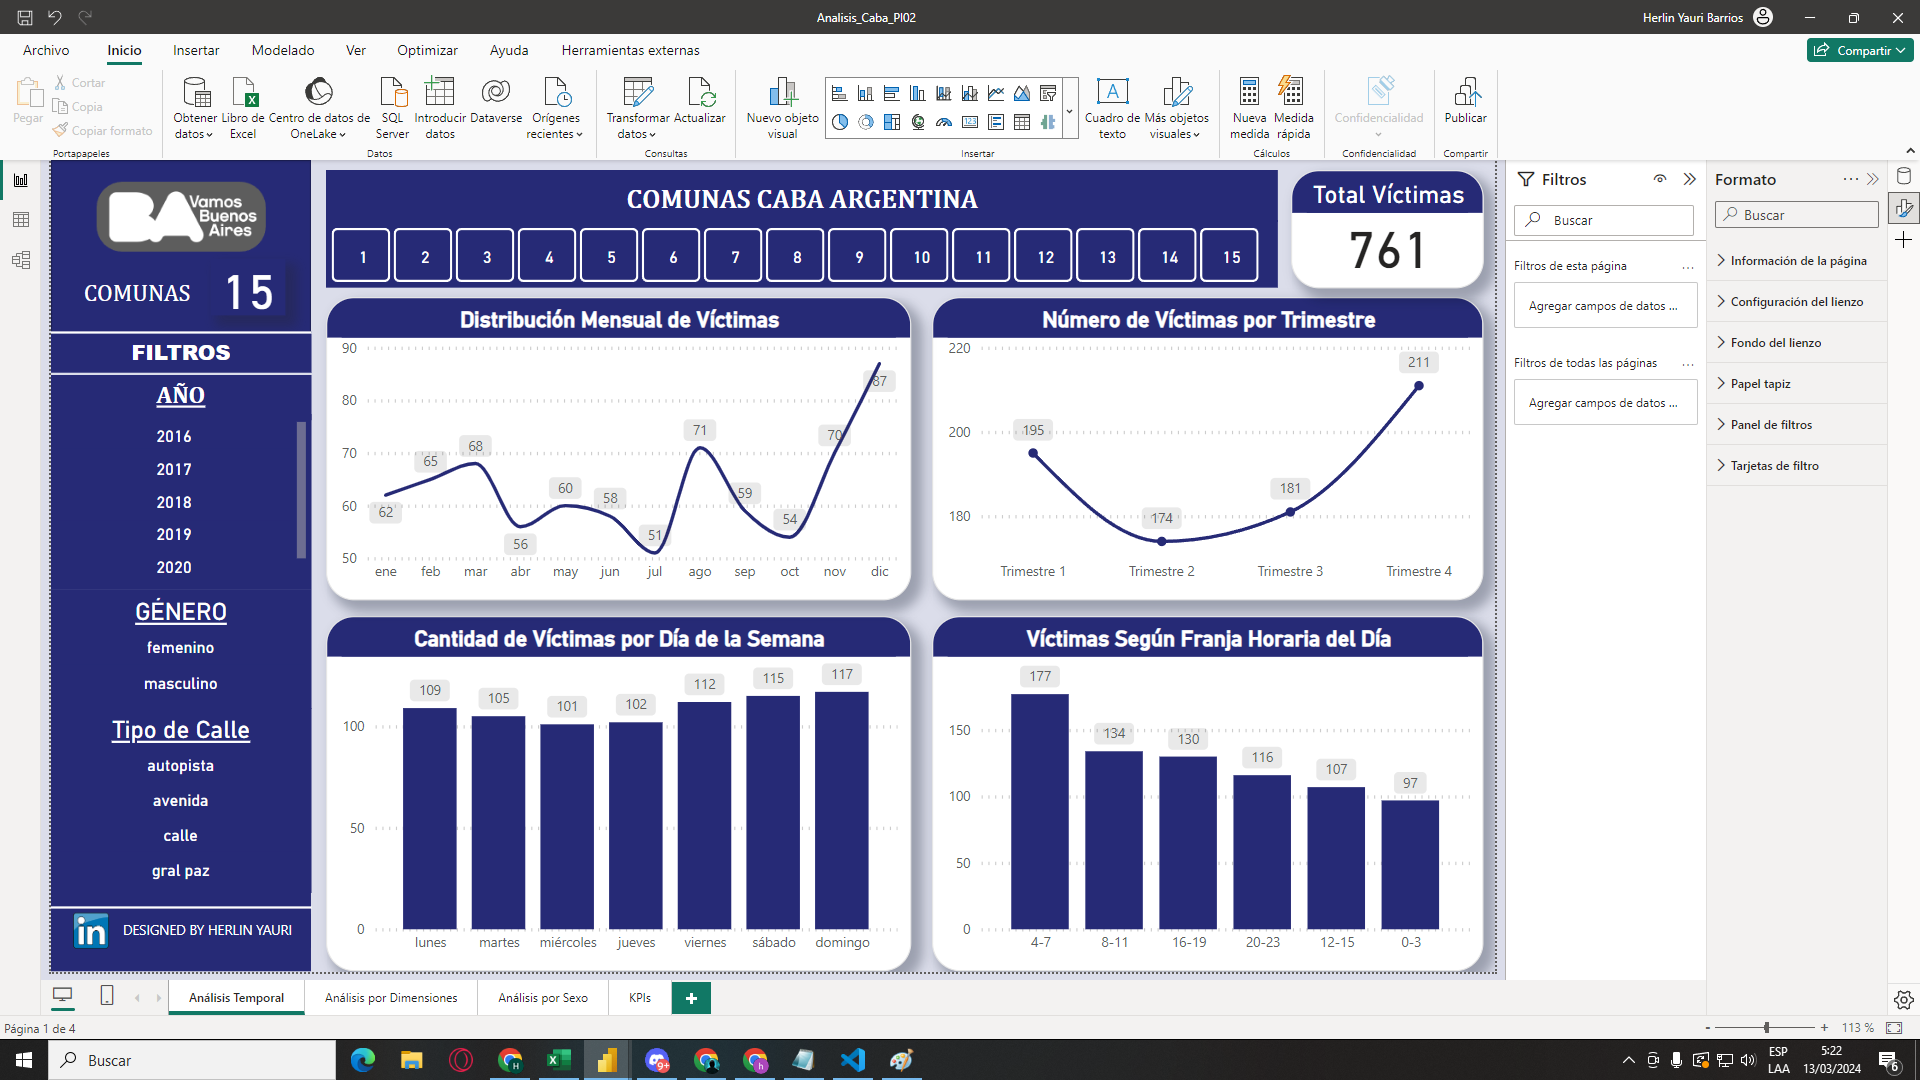

What the dashboard file says about the page in this screenshot:
{"tool":"powerbi","page":{"name":"Análisis Temporal","canvas":[1280,720],"ordinal":0},"visuals":[{"type":"advancedSlicerVisual","title":" _AÑO_","fields":{"Values":["DimTiempo.Año"]},"box":[0,225.2,231.4,156.1],"z":0},{"type":"advancedSlicerVisual","title":"GÉNERO","fields":{"Values":["FacDB.sexo_victima"]},"box":[0,381.3,230.5,104.6],"z":1000},{"type":"advancedSlicerVisual","title":"Tipo de Calle","fields":{"Values":["DimTipoCalle.tipo_calle"]},"box":[0,485.9,230.5,164],"z":2000},{"type":"shape","box":[0,646.8,230.5,72.9],"z":3000},{"type":"image","box":[11.7,662.4,47.7,41.8],"z":4000},{"type":"textbox","box":[58.4,668.2,172.2,30.2],"z":5000},{"type":"shape","box":[0,647,231,31],"z":6000},{"type":"textbox","box":[0,151.7,230.5,37],"z":7000},{"type":"shape","box":[0,0,230.5,153.4],"z":8000},{"type":"lineChart","title":"Número de Víctimas por Trimestre","fields":{"Y":["DimAcusado.Total Víctimas"],"Category":["DimTiempo.Trimestre"]},"box":[781.2,121.5,489.5,268.7],"z":9000},{"type":"clusteredColumnChart","title":"Cantidad de Víctimas por Día de la Semana","fields":{"Y":["DimAcusado.Total Víctimas"],"Category":["DimTiempo.Día"]},"box":[243.8,404.3,518.7,314.8],"z":10000},{"type":"card","title":"Total Víctimas","fields":{"Values":["DimAcusado.Total Víctimas"]},"box":[1099.5,8.9,171.1,104.6],"z":11000},{"type":"clusteredColumnChart","title":"Víctimas Según Franja Horaria del Día","fields":{"Y":["DimAcusado.Total Víctimas"],"Category":["FacDB.Franja_Horaria"]},"box":[781.2,404.3,489.5,314.8],"z":12000},{"type":"lineChart","title":"Distribución Mensual de Víctimas","fields":{"Y":["DimAcusado.Total Víctimas"],"Category":["DimTiempo.MesCorto"]},"box":[243.8,121.5,518.7,268.7],"z":13000},{"type":"image","box":[35.5,13.6,160,74.5],"z":14000},{"type":"card","fields":{"Values":["DimAcusado.Cant_Comunas"]},"box":[141.8,88.2,66.4,50],"z":15000},{"type":"textbox","box":[23.6,100.9,113.6,40.9],"z":16000},{"type":"shape","box":[0,146.3,231.4,13.3],"z":17000},{"type":"advancedSlicerVisual","title":"COMUNAS CABA","fields":{"Values":["DimComuna.CODCOM"]},"box":[243.8,53.2,844.1,60.3],"z":18000},{"type":"textbox","box":[243.8,8.9,844.1,46.1],"z":19000},{"type":"textbox","box":[0,190.6,230.5,39.9],"z":20000}]}

Visuals, with their boxes on the page's 1280x720 design canvas (x1, y1, x2, y2). These are canvas units, not pixel positions in the 1920x1080 screenshot, which may show the page scaled, cropped or inside an application window:
" _AÑO_" advancedSlicerVisual: detection(0, 225, 231, 381)
"GÉNERO" advancedSlicerVisual: detection(0, 381, 230, 486)
"Tipo de Calle" advancedSlicerVisual: detection(0, 486, 230, 650)
shape: detection(0, 647, 230, 720)
image: detection(12, 662, 59, 704)
textbox: detection(58, 668, 231, 698)
shape: detection(0, 647, 231, 678)
textbox: detection(0, 152, 230, 189)
shape: detection(0, 0, 230, 153)
"Número de Víctimas por Trimestre" lineChart: detection(781, 122, 1271, 390)
"Cantidad de Víctimas por Día de la Semana" clusteredColumnChart: detection(244, 404, 762, 719)
"Total Víctimas" card: detection(1100, 9, 1271, 114)
"Víctimas Según Franja Horaria del Día" clusteredColumnChart: detection(781, 404, 1271, 719)
"Distribución Mensual de Víctimas" lineChart: detection(244, 122, 762, 390)
image: detection(36, 14, 196, 88)
card - DimAcusado.Cant_Comunas: detection(142, 88, 208, 138)
textbox: detection(24, 101, 137, 142)
shape: detection(0, 146, 231, 160)
"COMUNAS CABA" advancedSlicerVisual: detection(244, 53, 1088, 114)
textbox: detection(244, 9, 1088, 55)
textbox: detection(0, 191, 230, 230)
